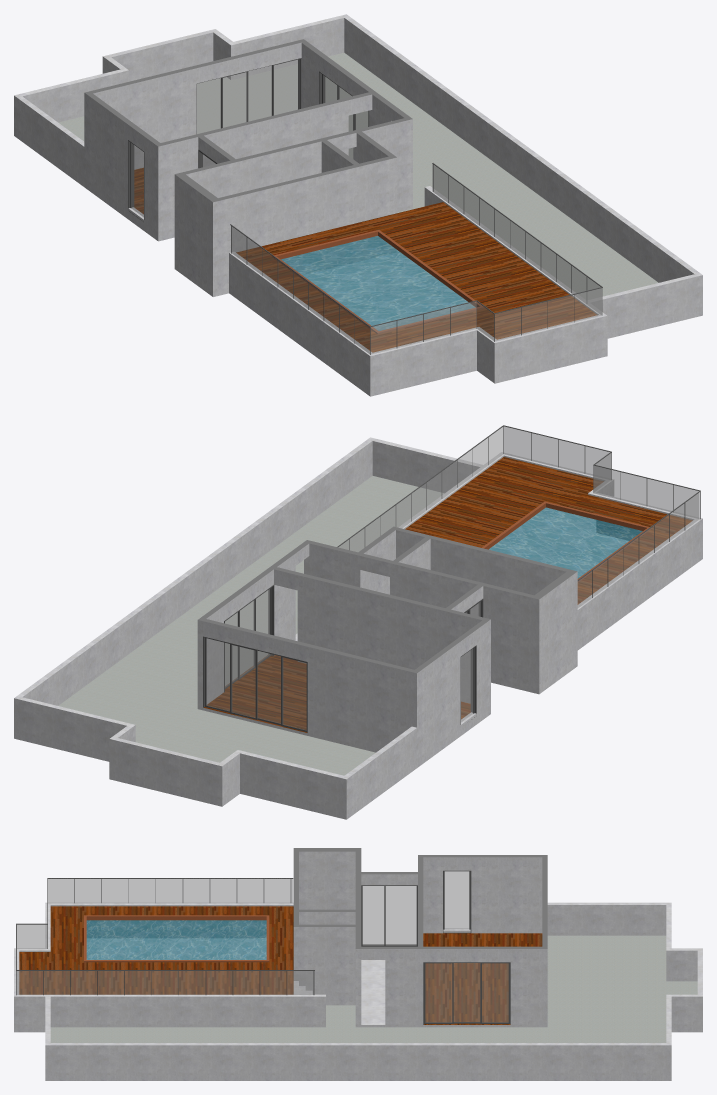
The model's file is TERRAZA.glb.
3 views of the same model, one above another, from view 1: azimuth 30°, elevation 25°; view 2: azimuth 150°, elevation 25°; view 3: azimuth 270°, elevation 25° (orthographic). The views are drawn at different scales.
Parts seen in each view (by area): view 1: 33053, 33052, 32160, 32277, 32279, 32276, 32278, Component#4, 32129; view 2: 33053, 33052, 32160, 32277, 32279, 32276, 32278, Component#4, 32129, 32523, 32524; view 3: 33053, 32160, 33052, 31822, Component#4, 32523, 32524, 32522, 32129, 31714, 32511.
Boxes of the visible parts, x1,y1,x2,y2 form: 33053: (14,14,702,396); 33052: (174,129,397,296); 32160: (231,164,601,354); 32277: (248,65,271,121); 32279: (197,78,220,133); 32276: (274,59,297,115); 32278: (223,72,246,127); Component#4: (128,140,144,221); 32129: (230,163,602,327); 33053: (14,437,702,819); 33052: (355,526,577,694); 32160: (338,426,699,607); 32277: (231,645,255,717); 32279: (282,657,306,729); 32276: (206,638,229,710); 32278: (257,651,280,723); Component#4: (460,645,476,724); 32129: (337,425,700,580); 32523: (240,600,254,676); 32524: (256,589,269,662); 33053: (14,855,702,1080); 32160: (17,878,314,994); 33052: (293,848,417,1005); 31822: (362,886,416,945); Component#4: (443,870,471,933); 32523: (453,963,480,1022); 32524: (425,963,452,1022); 32522: (482,963,508,1022); 32129: (16,878,314,970); 31714: (361,885,417,946); 32511: (480,963,510,1023).
Size of the model in its own units: 1.31 by 0.34 by 2.55.
982 materials, 112 textured.
